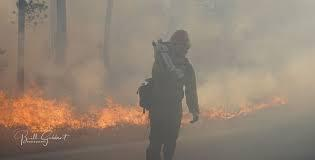fire: (0, 88, 145, 128), (182, 96, 288, 128)
